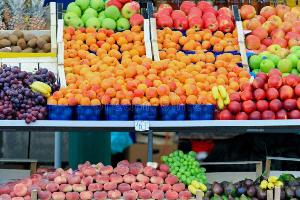apple: (242, 2, 300, 48), (62, 1, 148, 30), (155, 2, 235, 30), (248, 44, 300, 74)
apricot: (71, 57, 227, 114), (59, 31, 150, 63), (155, 30, 239, 54)
figs: (201, 161, 299, 200)
grape: (1, 60, 56, 122)
kiwi: (0, 30, 52, 56)
peach: (0, 154, 186, 200), (222, 70, 300, 125)
pineapple: (0, 1, 52, 30)
